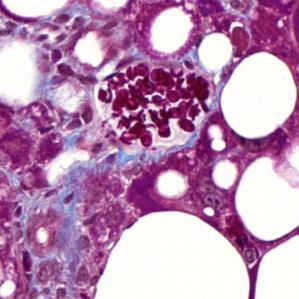steatosis: (217, 49, 299, 139)
